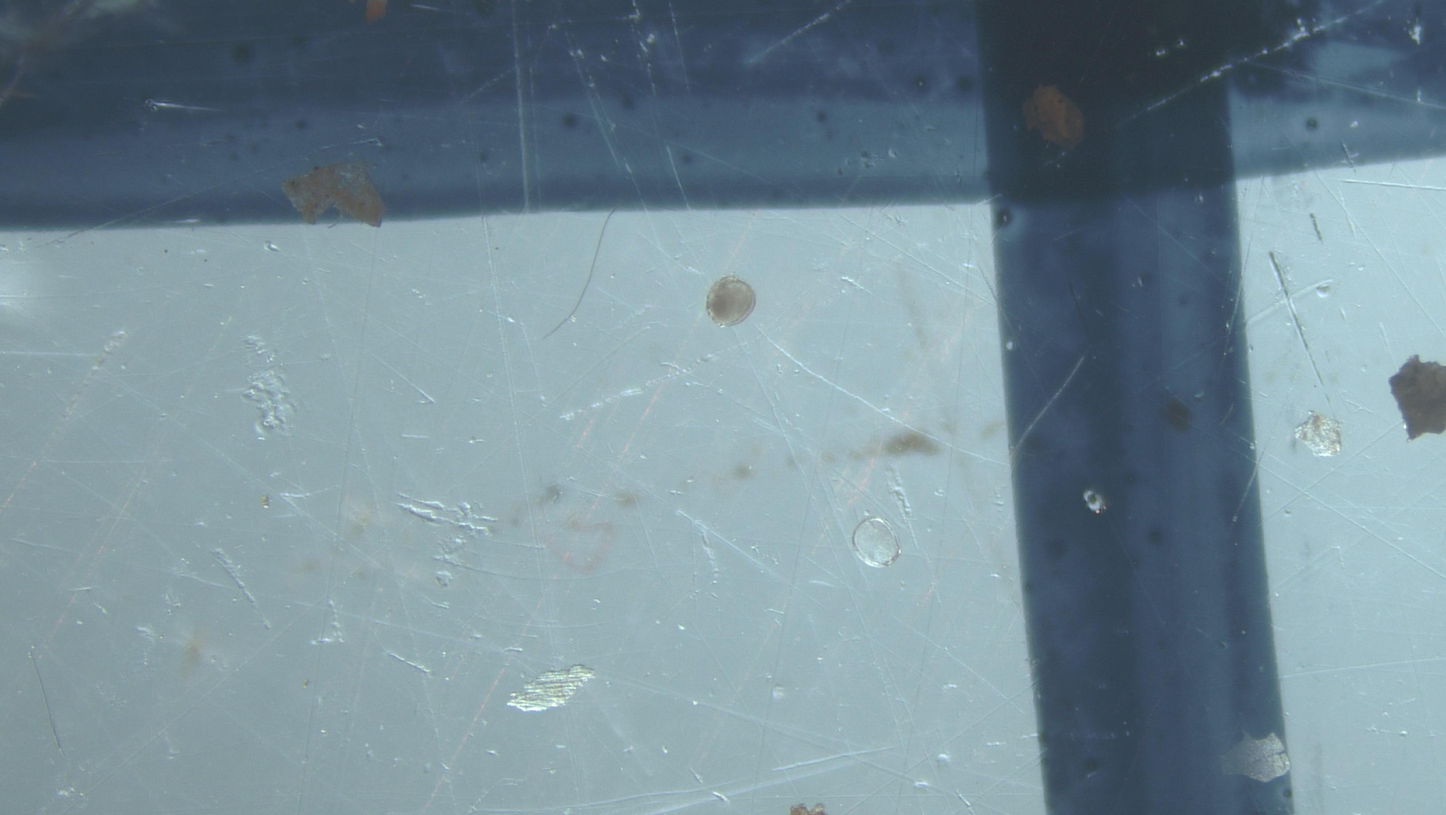dead: (852, 518, 901, 568)
live: (705, 276, 756, 327)
